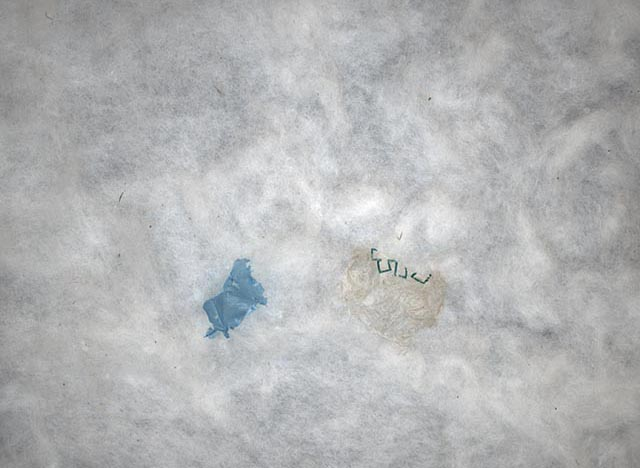plastic film: (340, 244, 448, 344), (201, 257, 269, 339)
